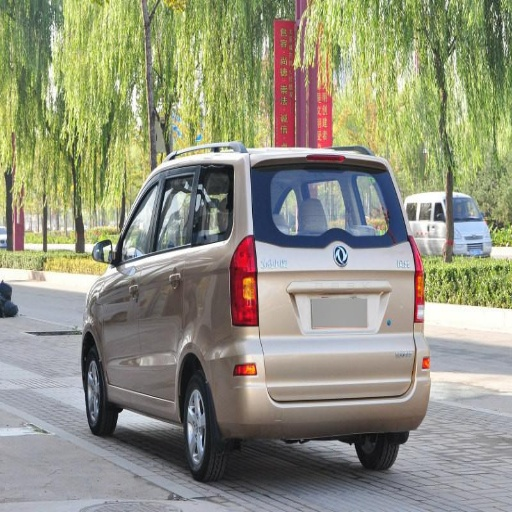back_bumper: (218, 361, 431, 438)
back_glass: (252, 161, 398, 244)
back_left_door: (142, 177, 210, 400)
trunk: (183, 242, 419, 402)
